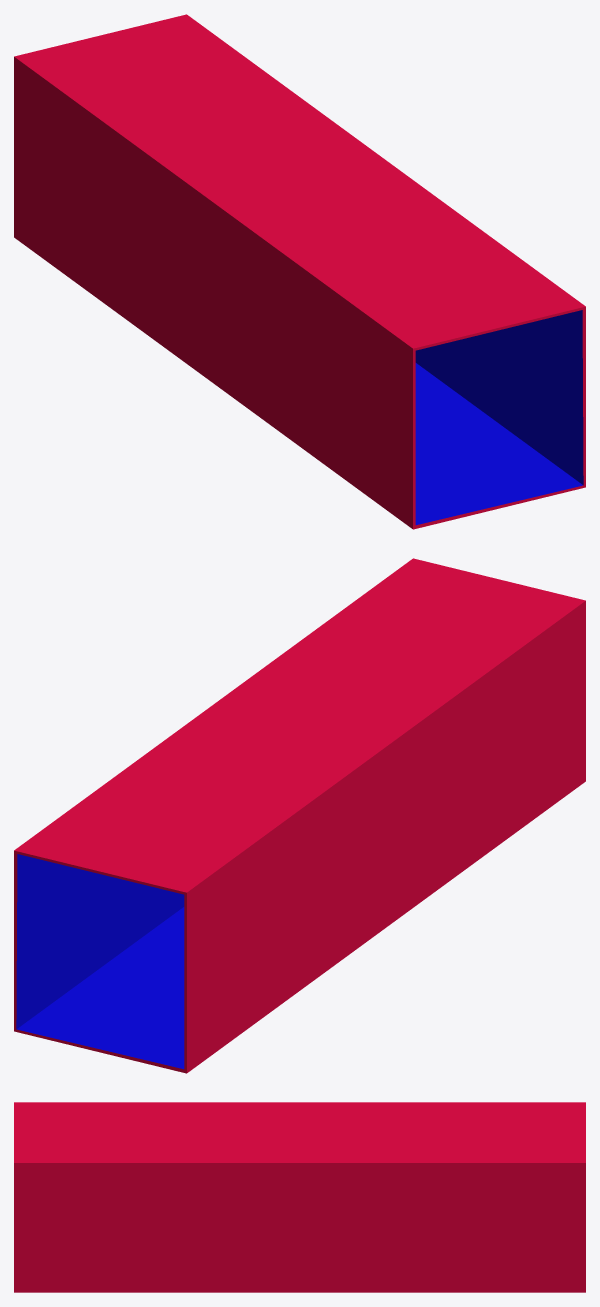
The model's file is Tunnel03.fbx.
The picture shows the model from 3 angles, top to bottom: view 1: azimuth 30°, elevation 25°; view 2: azimuth 150°, elevation 25°; view 3: azimuth 270°, elevation 25°; orthographic projection. The views are drawn at different scales.
Parts seen in each view (by area): view 1: Cube; view 2: Cube; view 3: Cube.
Boxes of the visible parts, x1=… form: Cube: x1=14, y1=14, x2=585, y2=529; Cube: x1=14, y1=558, x2=585, y2=1073; Cube: x1=14, y1=1102, x2=585, y2=1292.
Bounding box in the file's own units: 1000 × 1000 × 4000.
